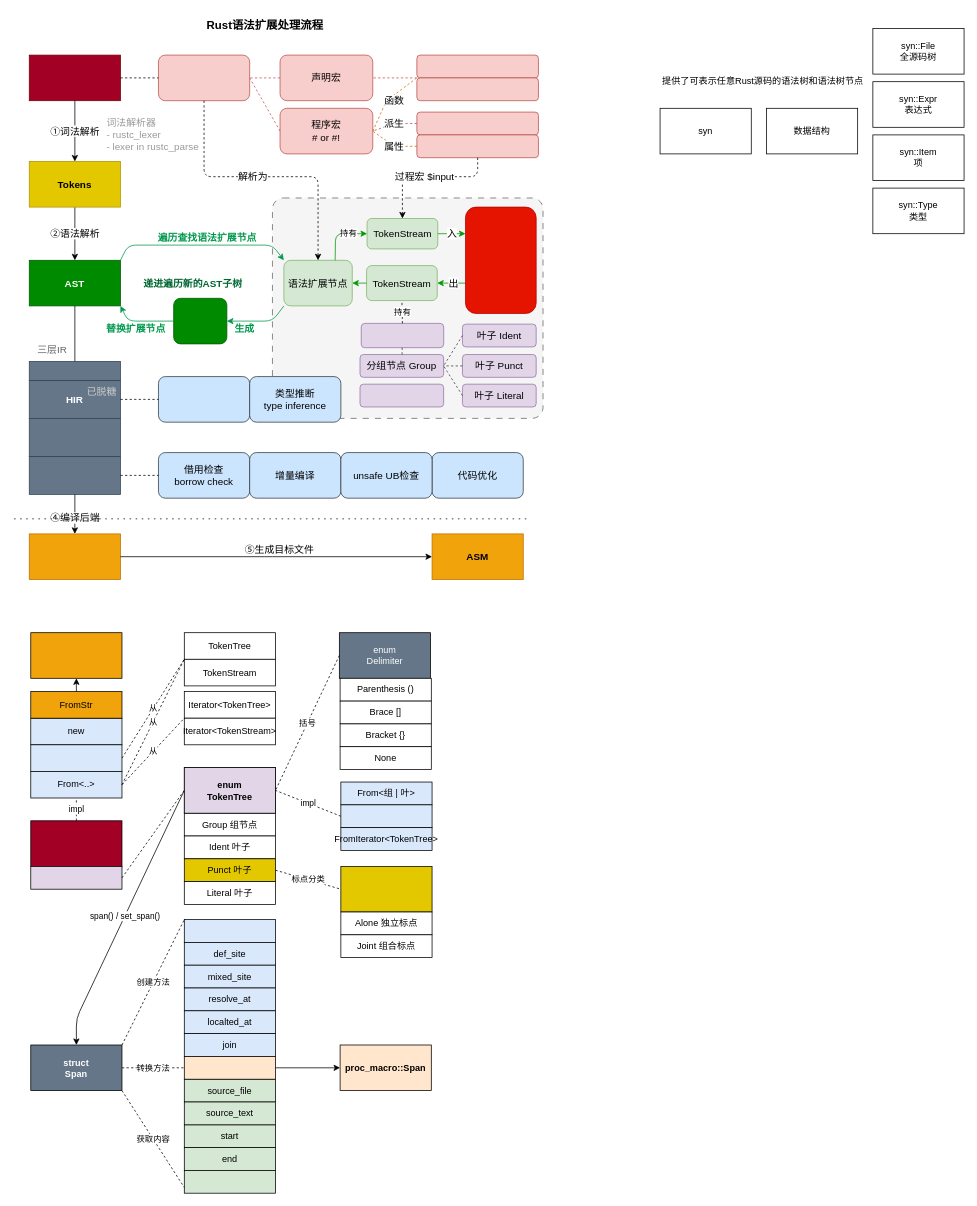
Image size: 977x1206. Some labels were removed from this diagram. Each missing label, with the box of its shape:
#[$name...] $input: (416, 134, 538, 158)
#[derive(Trait)] $input: (416, 111, 538, 135)
$name! $input: (416, 54, 538, 78)
$name! $input1 $input2: (416, 77, 538, 101)
AST子树: (173, 298, 227, 344)
call_site: (184, 919, 276, 942)
enum Spacing: (340, 866, 432, 912)
eq: (184, 1170, 276, 1193)
Extend<..>: (30, 744, 122, 771)
Extend<TokenTree>: (340, 804, 432, 828)
LLVM IR: (28, 533, 120, 580)
MIR: (28, 456, 120, 494)
RcVec<TokenTree>: (30, 866, 122, 889)
Source: (28, 54, 120, 101)
struct LexError: (30, 632, 122, 678)
struct TokensStream: (30, 820, 122, 866)
THIR过渡: (28, 418, 120, 456)
unwrap: (184, 1056, 276, 1079)
Vec<TokenTree>: (360, 323, 444, 348)
③语义分析: (28, 361, 120, 380)
宏展开逻辑 编码切入点 + quote syn sytax tree: (465, 206, 536, 314)
源码位置 Span: (359, 383, 444, 407)
类型检查 type check: (158, 376, 250, 422)
语法扩展: (158, 54, 250, 101)
